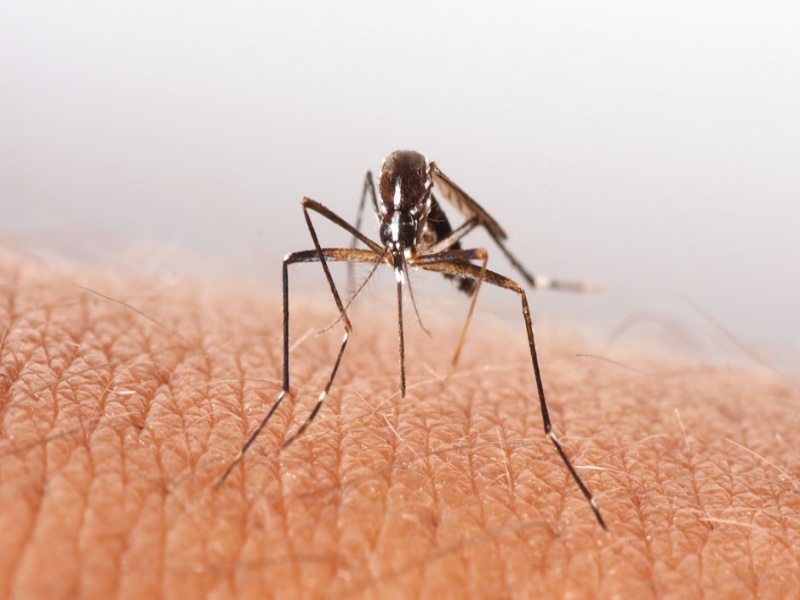dengue_mosquito: (276, 150, 539, 380)
